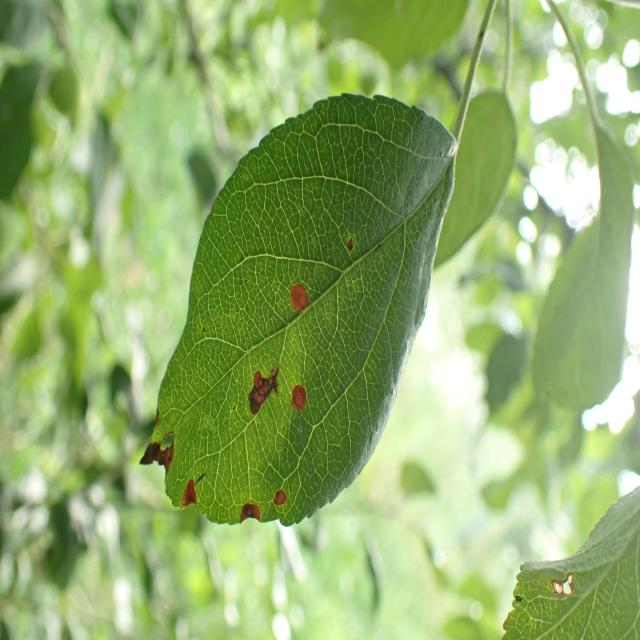Black Rot: (226, 362, 281, 420), (129, 427, 178, 489), (284, 266, 322, 338), (279, 377, 327, 421), (262, 482, 302, 530), (218, 501, 270, 536), (174, 472, 200, 528), (334, 224, 378, 256)
